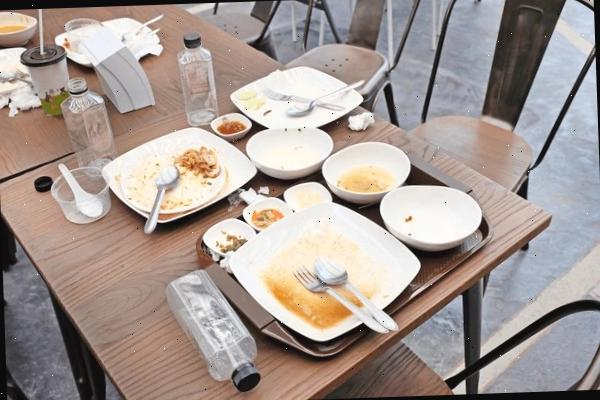Messy Table: (0, 0, 586, 400)
